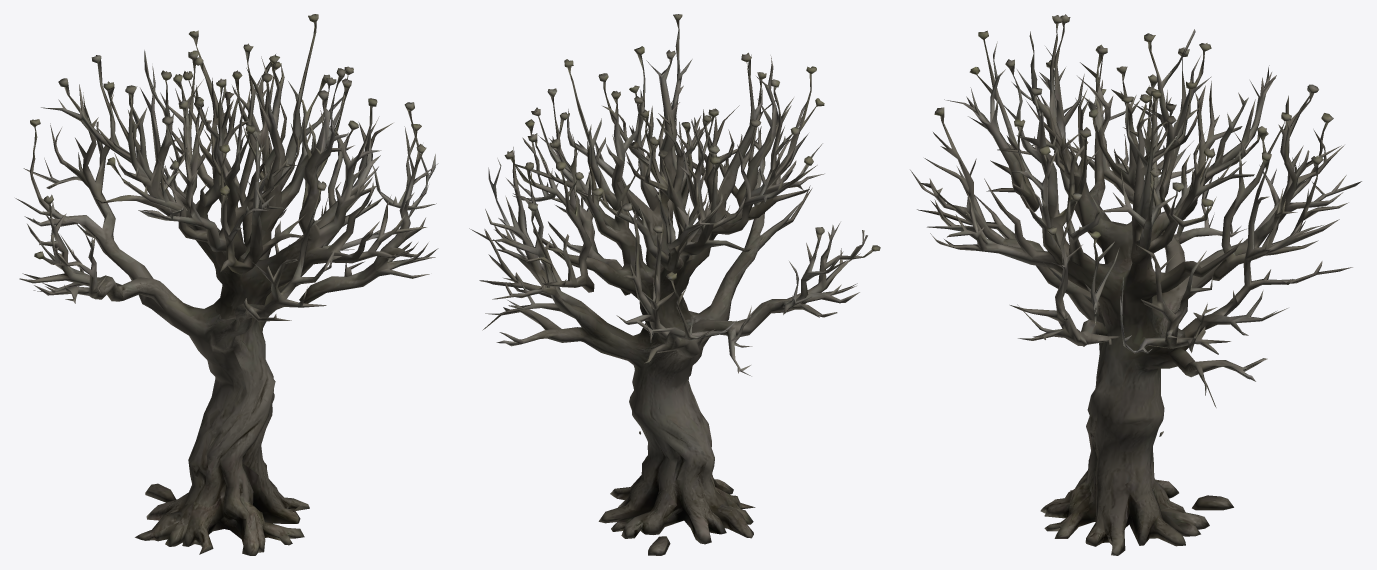
The model's file is pollarded.opt.glb.
3 views of the same model, side by side, from view 1: azimuth 30°, elevation 25°; view 2: azimuth 150°, elevation 25°; view 3: azimuth 270°, elevation 25° (orthographic). The views are drawn at different scales.
Parts seen in each view (by area): view 1: node_0; view 2: node_0; view 3: node_0.
Boxes of the visible parts, x1,y1,x2,y2 form: node_0: [15, 14, 438, 555]; node_0: [469, 14, 880, 555]; node_0: [910, 14, 1361, 555].
Bounding box in the file's own units: 0.9468 × 1.06 × 0.8945.
1 material, 1 textured.
